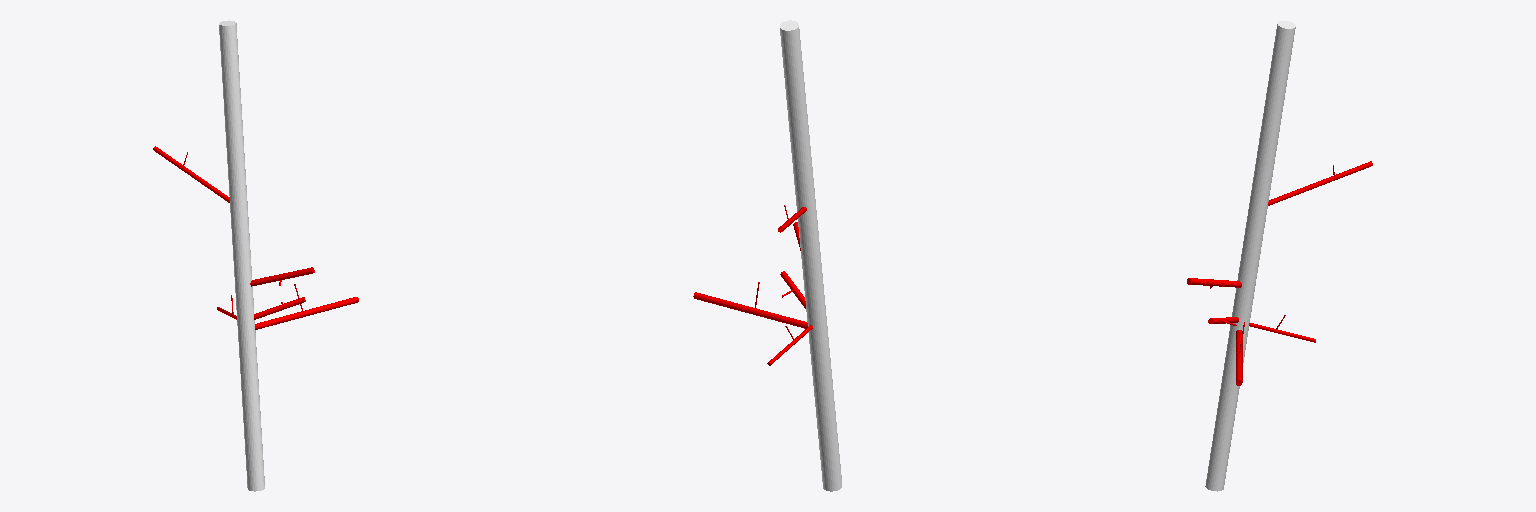
The robot description file, URDF, robot "tree_66.urdf":
<?xml version='1.0' encoding='UTF-8'?>
<robot name="tree_66.urdf">
  <link name="branch_0">
    <inertial>
      <origin xyz="0.0 0.0 0.0" rpy="0.0 -0.0 0.0"/>
      <mass value="0.1"/>
      <inertia ixx="0.001" ixy="0.0" ixz="0.0" iyy="0.001" iyz="0.0" izz="0.001"/>
    </inertial>
    <visual name="branch_0_visual">
      <geometry>
        <cylinder radius="0.1792480597111667" length="9.928148675620298"/>
      </geometry>
      <material name="branch_material"/>
      <origin xyz="0.06095403656192234 0.6891320390806946 4.915629732744784" rpy="-1.734723475976807e-18 0.13982099699714648 1.4825754670197744"/>
    </visual>
    <collision name="branch_0_collision">
      <geometry>
        <cylinder radius="0.1792480597111667" length="9.928148675620298"/>
      </geometry>
      <origin xyz="0.06095403656192234 0.6891320390806946 4.915629732744784" rpy="-1.734723475976807e-18 0.13982099699714648 1.4825754670197744"/>
    </collision>
  </link>
  <link name="branch_1">
    <inertial>
      <origin xyz="0.0 0.0 0.0" rpy="0.0 -0.0 0.0"/>
      <mass value="0.1"/>
      <inertia ixx="0.001" ixy="0.0" ixz="0.0" iyy="0.001" iyz="0.0" izz="0.001"/>
    </inertial>
    <visual name="branch_1_visual">
      <geometry>
        <cylinder radius="0.05761680508145821" length="1.2774523925389534"/>
      </geometry>
      <material name="semantic_material"/>
      <origin xyz="0.0 0.0 0.0" rpy="0.0 -0.0 0.0"/>
    </visual>
    <collision name="branch_1_collision">
      <geometry>
        <cylinder radius="0.05761680508145821" length="1.2774523925389534"/>
      </geometry>
      <origin xyz="0.0 0.0 0.0" rpy="0.0 -0.0 0.0"/>
    </collision>
  </link>
  <link name="branch_2">
    <inertial>
      <origin xyz="0.0 0.0 0.0" rpy="0.0 -0.0 0.0"/>
      <mass value="0.1"/>
      <inertia ixx="0.001" ixy="0.0" ixz="0.0" iyy="0.001" iyz="0.0" izz="0.001"/>
    </inertial>
    <visual name="branch_2_visual">
      <geometry>
        <cylinder radius="0.018637209251316636" length="0.3117300237456823"/>
      </geometry>
      <material name="semantic_material"/>
      <origin xyz="0.0 0.0 0.0" rpy="0.0 -0.0 0.0"/>
    </visual>
    <collision name="branch_2_collision">
      <geometry>
        <cylinder radius="0.018637209251316636" length="0.3117300237456823"/>
      </geometry>
      <origin xyz="0.0 0.0 0.0" rpy="0.0 -0.0 0.0"/>
    </collision>
  </link>
  <link name="branch_3">
    <inertial>
      <origin xyz="0.0 0.0 0.0" rpy="0.0 -0.0 0.0"/>
      <mass value="0.1"/>
      <inertia ixx="0.001" ixy="0.0" ixz="0.0" iyy="0.001" iyz="0.0" izz="0.001"/>
    </inertial>
    <visual name="branch_3_visual">
      <geometry>
        <cylinder radius="0.06347955882759732" length="1.5750715213837105"/>
      </geometry>
      <material name="semantic_material"/>
      <origin xyz="0.0 0.0 0.0" rpy="0.0 -0.0 0.0"/>
    </visual>
    <collision name="branch_3_collision">
      <geometry>
        <cylinder radius="0.06347955882759732" length="1.5750715213837105"/>
      </geometry>
      <origin xyz="0.0 0.0 0.0" rpy="0.0 -0.0 0.0"/>
    </collision>
  </link>
  <link name="branch_4">
    <inertial>
      <origin xyz="0.0 0.0 0.0" rpy="0.0 -0.0 0.0"/>
      <mass value="0.1"/>
      <inertia ixx="0.001" ixy="0.0" ixz="0.0" iyy="0.001" iyz="0.0" izz="0.001"/>
    </inertial>
    <visual name="branch_4_visual">
      <geometry>
        <cylinder radius="0.019627868934010063" length="0.18231285001671088"/>
      </geometry>
      <material name="semantic_material"/>
      <origin xyz="0.0 0.0 0.0" rpy="0.0 -0.0 0.0"/>
    </visual>
    <collision name="branch_4_collision">
      <geometry>
        <cylinder radius="0.019627868934010063" length="0.18231285001671088"/>
      </geometry>
      <origin xyz="0.0 0.0 0.0" rpy="0.0 -0.0 0.0"/>
    </collision>
  </link>
  <link name="branch_5">
    <inertial>
      <origin xyz="0.0 0.0 0.0" rpy="0.0 -0.0 0.0"/>
      <mass value="0.1"/>
      <inertia ixx="0.001" ixy="0.0" ixz="0.0" iyy="0.001" iyz="0.0" izz="0.001"/>
    </inertial>
    <visual name="branch_5_visual">
      <geometry>
        <cylinder radius="0.04875201103412024" length="2.373998885758639"/>
      </geometry>
      <material name="semantic_material"/>
      <origin xyz="0.0 0.0 0.0" rpy="0.0 -0.0 0.0"/>
    </visual>
    <collision name="branch_5_collision">
      <geometry>
        <cylinder radius="0.04875201103412024" length="2.373998885758639"/>
      </geometry>
      <origin xyz="0.0 0.0 0.0" rpy="0.0 -0.0 0.0"/>
    </collision>
  </link>
  <link name="branch_6">
    <inertial>
      <origin xyz="0.0 0.0 0.0" rpy="0.0 -0.0 0.0"/>
      <mass value="0.1"/>
      <inertia ixx="0.001" ixy="0.0" ixz="0.0" iyy="0.001" iyz="0.0" izz="0.001"/>
    </inertial>
    <visual name="branch_6_visual">
      <geometry>
        <cylinder radius="0.01133141143285206" length="0.3415239577469147"/>
      </geometry>
      <material name="semantic_material"/>
      <origin xyz="0.0 0.0 0.0" rpy="0.0 -0.0 0.0"/>
    </visual>
    <collision name="branch_6_collision">
      <geometry>
        <cylinder radius="0.01133141143285206" length="0.3415239577469147"/>
      </geometry>
      <origin xyz="0.0 0.0 0.0" rpy="0.0 -0.0 0.0"/>
    </collision>
  </link>
  <link name="branch_7">
    <inertial>
      <origin xyz="0.0 0.0 0.0" rpy="0.0 -0.0 0.0"/>
      <mass value="0.1"/>
      <inertia ixx="0.001" ixy="0.0" ixz="0.0" iyy="0.001" iyz="0.0" izz="0.001"/>
    </inertial>
    <visual name="branch_7_visual">
      <geometry>
        <cylinder radius="0.06264778781551131" length="2.594858013791322"/>
      </geometry>
      <material name="semantic_material"/>
      <origin xyz="0.0 0.0 0.0" rpy="0.0 -0.0 0.0"/>
    </visual>
    <collision name="branch_7_collision">
      <geometry>
        <cylinder radius="0.06264778781551131" length="2.594858013791322"/>
      </geometry>
      <origin xyz="0.0 0.0 0.0" rpy="0.0 -0.0 0.0"/>
    </collision>
  </link>
  <link name="branch_8">
    <inertial>
      <origin xyz="0.0 0.0 0.0" rpy="0.0 -0.0 0.0"/>
      <mass value="0.1"/>
      <inertia ixx="0.001" ixy="0.0" ixz="0.0" iyy="0.001" iyz="0.0" izz="0.001"/>
    </inertial>
    <visual name="branch_8_visual">
      <geometry>
        <cylinder radius="0.012840648220036655" length="0.6865872218409313"/>
      </geometry>
      <material name="semantic_material"/>
      <origin xyz="0.0 0.0 0.0" rpy="0.0 -0.0 0.0"/>
    </visual>
    <collision name="branch_8_collision">
      <geometry>
        <cylinder radius="0.012840648220036655" length="0.6865872218409313"/>
      </geometry>
      <origin xyz="0.0 0.0 0.0" rpy="0.0 -0.0 0.0"/>
    </collision>
  </link>
  <link name="branch_9">
    <inertial>
      <origin xyz="0.0 0.0 0.0" rpy="0.0 -0.0 0.0"/>
      <mass value="0.1"/>
      <inertia ixx="0.001" ixy="0.0" ixz="0.0" iyy="0.001" iyz="0.0" izz="0.001"/>
    </inertial>
    <visual name="branch_9_visual">
      <geometry>
        <cylinder radius="0.037302258285906366" length="1.4929214744797024"/>
      </geometry>
      <material name="semantic_material"/>
      <origin xyz="0.0 0.0 0.0" rpy="0.0 -0.0 0.0"/>
    </visual>
    <collision name="branch_9_collision">
      <geometry>
        <cylinder radius="0.037302258285906366" length="1.4929214744797024"/>
      </geometry>
      <origin xyz="0.0 0.0 0.0" rpy="0.0 -0.0 0.0"/>
    </collision>
  </link>
  <link name="branch_10">
    <inertial>
      <origin xyz="0.0 0.0 0.0" rpy="0.0 -0.0 0.0"/>
      <mass value="0.1"/>
      <inertia ixx="0.001" ixy="0.0" ixz="0.0" iyy="0.001" iyz="0.0" izz="0.001"/>
    </inertial>
    <visual name="branch_10_visual">
      <geometry>
        <cylinder radius="0.01214838546227181" length="0.4240943020704903"/>
      </geometry>
      <material name="semantic_material"/>
      <origin xyz="0.0 0.0 0.0" rpy="0.0 -0.0 0.0"/>
    </visual>
    <collision name="branch_10_collision">
      <geometry>
        <cylinder radius="0.01214838546227181" length="0.4240943020704903"/>
      </geometry>
      <origin xyz="0.0 0.0 0.0" rpy="0.0 -0.0 0.0"/>
    </collision>
  </link>
  <joint name="joint_0_1" type="fixed">
    <parent link="branch_0"/>
    <child link="branch_1"/>
    <axis xyz="1. 0. 0."/>
    <origin xyz="0.568689437037841 0.21290933528263165 3.7892228171606566" rpy="-0.34127781689272246 1.1875826454561296 -0.8660574071376653"/>
  </joint>
  <joint name="joint_0_3" type="fixed">
    <parent link="branch_0"/>
    <child link="branch_3"/>
    <axis xyz="1. 0. 0."/>
    <origin xyz="0.5507509274222069 0.05561618550262417 4.571808850060457" rpy="-0.2817641028466766 1.205187716747932 -1.1337641289862368"/>
  </joint>
  <joint name="joint_0_5" type="fixed">
    <parent link="branch_0"/>
    <child link="branch_5"/>
    <axis xyz="1. 0. 0."/>
    <origin xyz="-0.28240227938193124 1.926771505150805 6.248164401656709" rpy="0.2238860605598003 1.3108758535865794 2.117352023084818"/>
  </joint>
  <joint name="joint_0_7" type="fixed">
    <parent link="branch_0"/>
    <child link="branch_7"/>
    <axis xyz="1. 0. 0."/>
    <origin xyz="1.33878013035329 0.4709226916778581 3.3980894875264656" rpy="-1.3959899376666278 1.4292913775644125 -1.3984739858021735"/>
  </joint>
  <joint name="joint_0_9" type="fixed">
    <parent link="branch_0"/>
    <child link="branch_9"/>
    <axis xyz="1. 0. 0."/>
    <origin xyz="0.13442803850226764 1.216329147575523 3.3542046932020932" rpy="-3.1177899042284363 1.35891685572258 -1.671318034096713"/>
  </joint>
  <joint name="joint_1_2" type="fixed">
    <parent link="branch_0"/>
    <child link="branch_2"/>
    <axis xyz="1. 0. 0."/>
    <origin xyz="0.7797796552652768 0.26992462281444746 3.8316021815544152" rpy="1.7540615968967241 0.32840141172038506 2.871924998619746"/>
  </joint>
  <joint name="joint_3_4" type="fixed">
    <parent link="branch_0"/>
    <child link="branch_4"/>
    <axis xyz="1. 0. 0."/>
    <origin xyz="0.5471414686447968 -0.02988496965565742 4.5220954020305175" rpy="-2.4391431067197695 0.25922550469818495 2.225345106212881"/>
  </joint>
  <joint name="joint_5_6" type="fixed">
    <parent link="branch_0"/>
    <child link="branch_6"/>
    <axis xyz="1. 0. 0."/>
    <origin xyz="-0.3470699870060263 2.2829464243709543 6.509019667746475" rpy="-0.28606025750680175 0.15412258848616878 -1.2255333500494616"/>
  </joint>
  <joint name="joint_7_8" type="fixed">
    <parent link="branch_0"/>
    <child link="branch_8"/>
    <axis xyz="1. 0. 0."/>
    <origin xyz="1.3014227378184164 0.521582890791641 3.7303361399427097" rpy="0.1544237279564905 0.21574096453462524 -3.1127823624424"/>
  </joint>
  <joint name="joint_9_10" type="fixed">
    <parent link="branch_0"/>
    <child link="branch_10"/>
    <axis xyz="1. 0. 0."/>
    <origin xyz="0.16586078161374745 1.2599850311306764 3.5504872363242863" rpy="-0.14106837740660275 -0.4948367274245584 -1.6551452386777725"/>
  </joint>
  <material name="branch_material">
    <color rgba="1. 1. 1. 1."/>
  </material>
  <material name="semantic_material">
    <color rgba="1. 0. 0. 1."/>
  </material>
</robot>

--- What the picture shows (computed from the rendered views, not written in the file) ---
The picture shows the robot from 3 angles, left to right: view 1: azimuth 30°, elevation 25°; view 2: azimuth 150°, elevation 25°; view 3: azimuth 270°, elevation 25°; orthographic projection.
Model tree_66.urdf with 11 links and 10 joints (10 fixed), rooted at branch_0, posed all joints at 0.
Links seen in each view (by area): view 1: branch_0, branch_7; view 2: branch_0, branch_7; view 3: branch_0, branch_5.
Link boxes in pixels (x1,y1,x2,y2): branch_0: [219, 20, 264, 491]; branch_7: [255, 297, 358, 329]; branch_0: [780, 20, 841, 491]; branch_7: [693, 292, 807, 328]; branch_0: [1205, 21, 1295, 491]; branch_5: [1268, 161, 1372, 205].
Size in the robot's own frame: 3.32 by 3.58 by 9.88 metres.
Geometry: primitives only (box / cylinder / sphere), no mesh files.